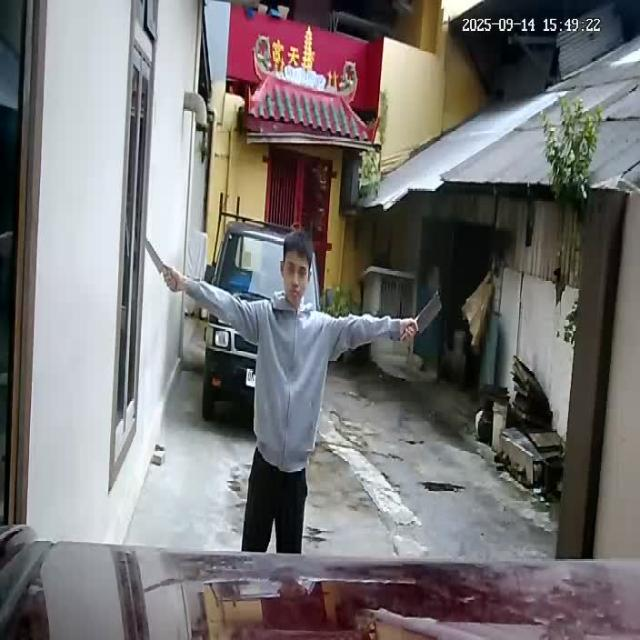senjata_tajam: (414, 288, 446, 336), (139, 229, 167, 276)
